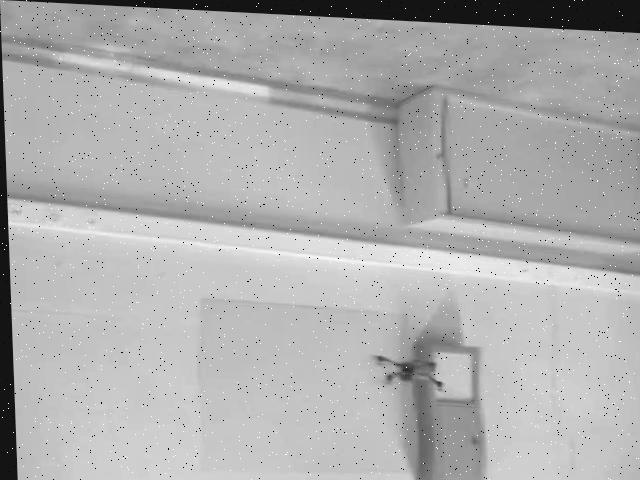drone: (369, 346, 447, 391)
